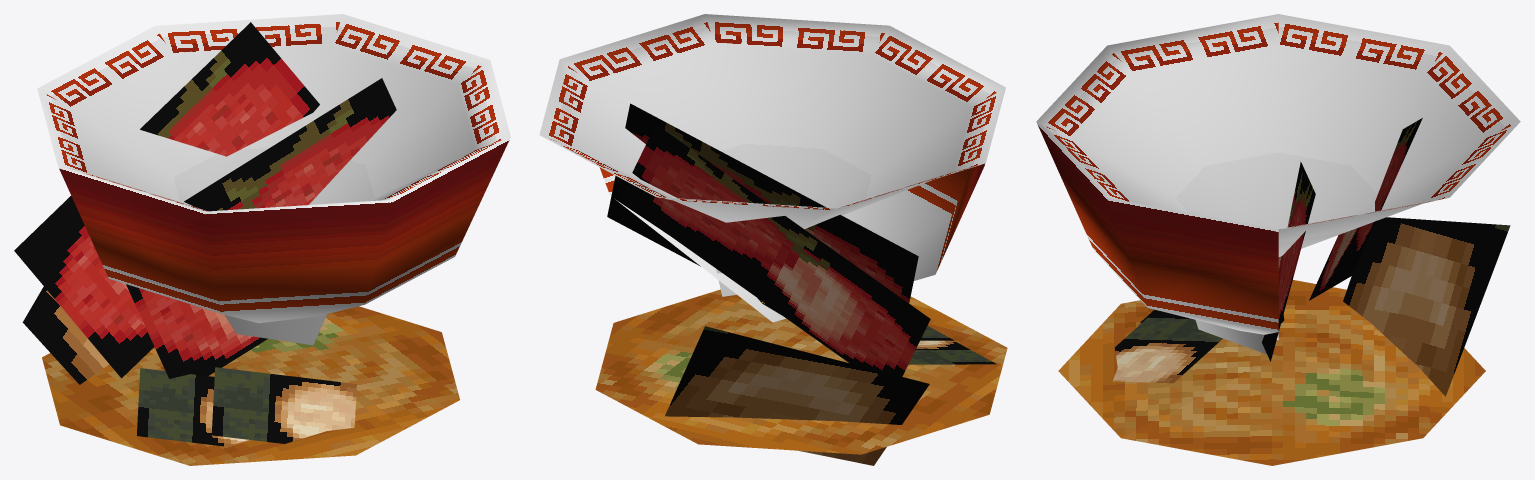
The picture shows the model from 3 angles, left to right: view 1: azimuth 30°, elevation 25°; view 2: azimuth 150°, elevation 25°; view 3: azimuth 270°, elevation 25°; orthographic projection. The views are drawn at different scales.
Visible parts, largest first — view 1: 5536u_ramn02_hl; view 2: 5536u_ramn02_hl; view 3: 5536u_ramn02_hl.
Boxes of the visible parts, left/top/right/bottom form: 5536u_ramn02_hl: left=14, top=14, right=510, bottom=465; 5536u_ramn02_hl: left=539, top=14, right=1007, bottom=465; 5536u_ramn02_hl: left=1036, top=14, right=1520, bottom=465.
Size of the model in its own units: 0.7812 by 0.5945 by 0.7417.
Materials: 5 (5 with a texture image).
